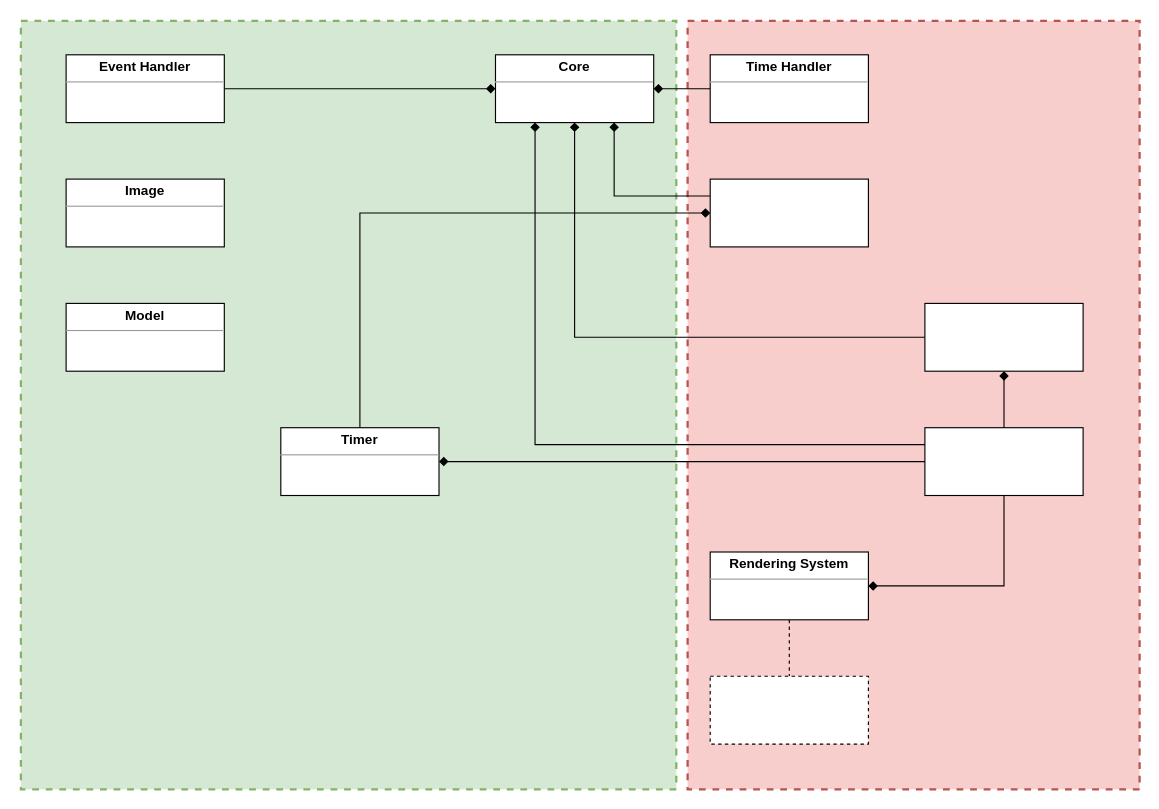
This 1159x809 diagram has some shape labels left out. The centre of each missing label's shape, as x and y in pixels:
OpenGL API: the point at 788,709
Profile: the point at 788,212
Win32 API Wrapper: the point at 1003,461
Window: the point at 1003,336
